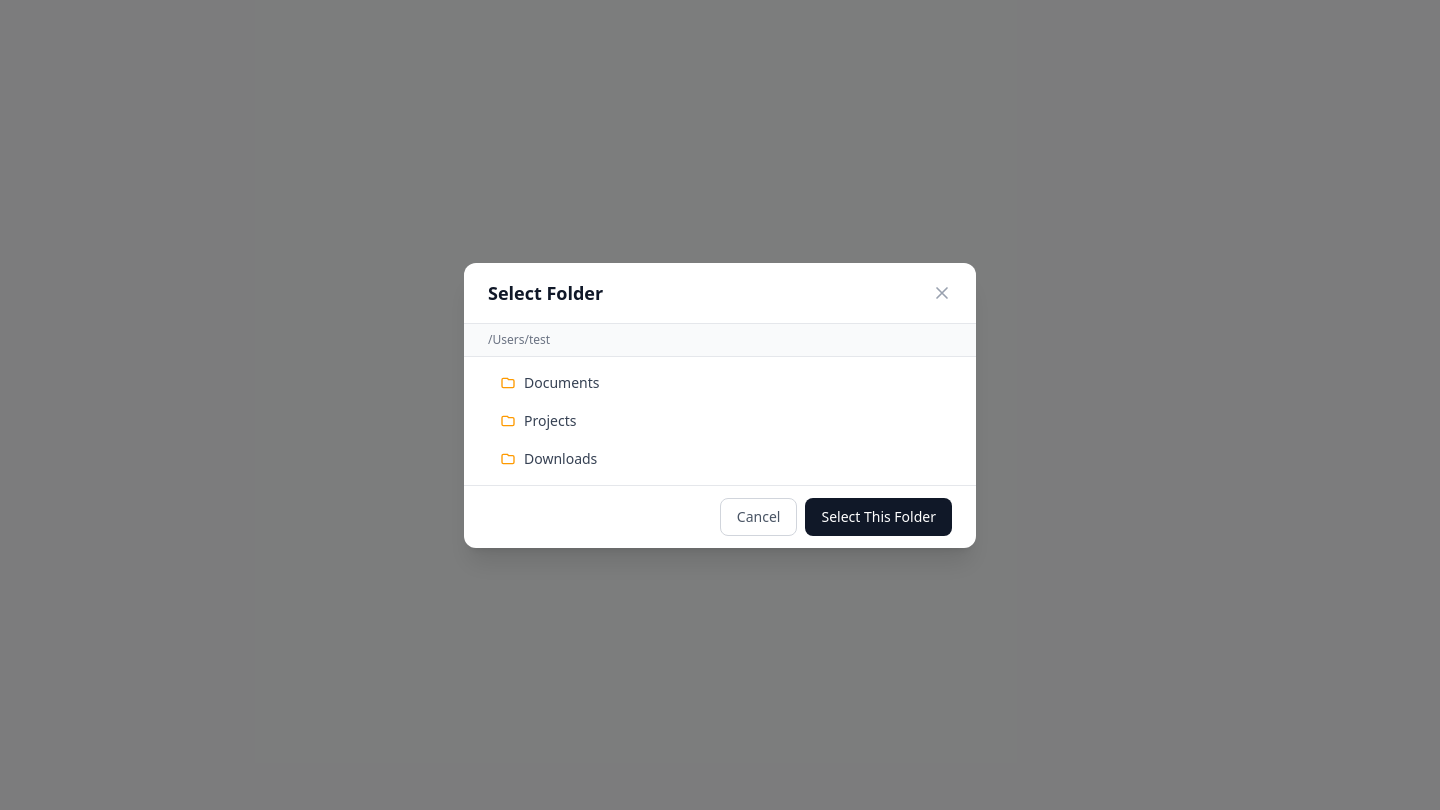
Test case: FolderBrowser › navigates into subdirectory on click
Click the button "Projects" at [550, 420], box 488,402 -> 952,438
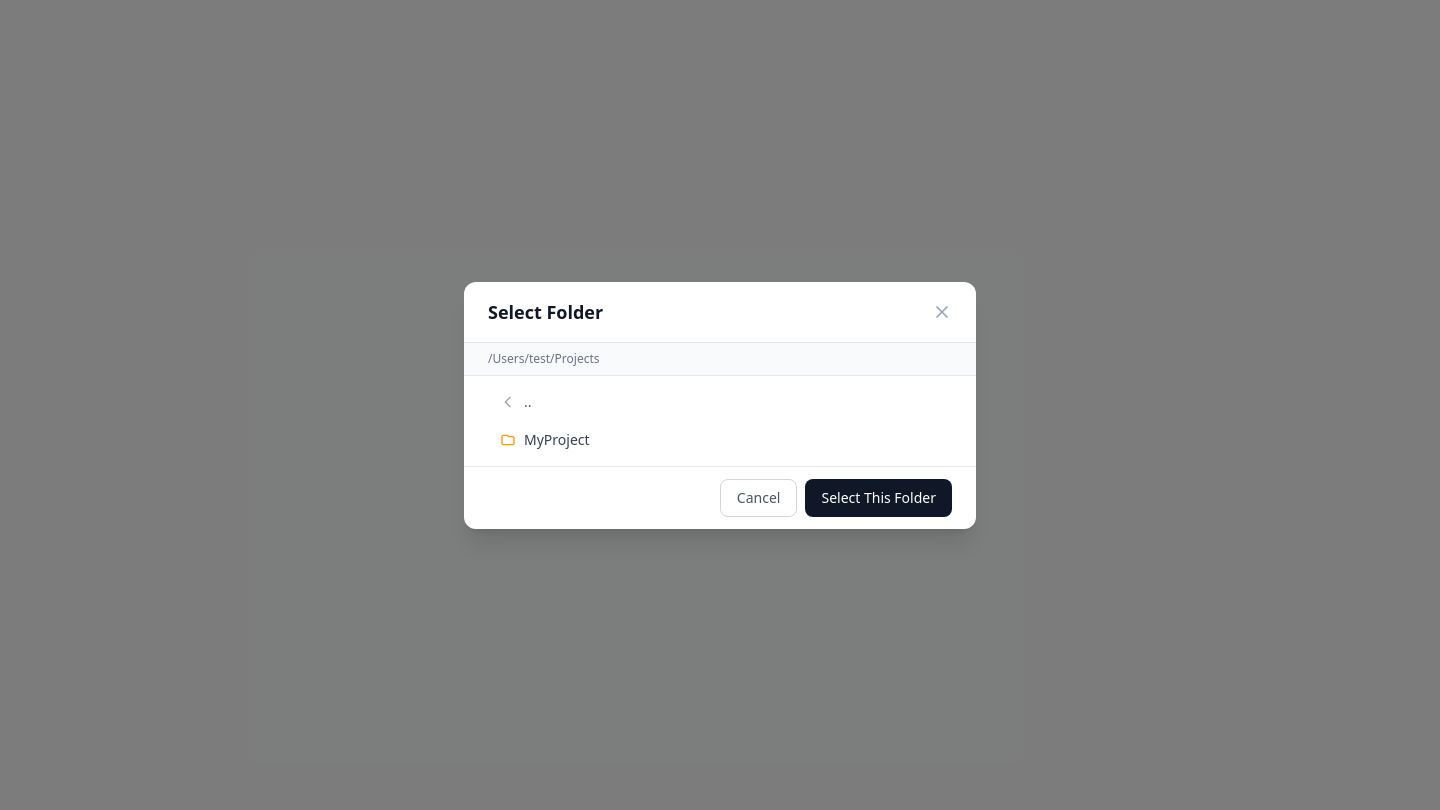
Result: the button "MyProject" is shown at 488,422 -> 952,458
Result: the text "/Users/test/Projects" is shown at 488,350 -> 600,366
